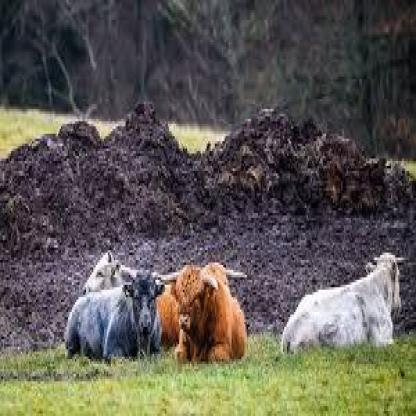cow: (282, 254, 404, 355), (64, 271, 166, 365), (169, 260, 252, 369), (82, 251, 161, 294)
